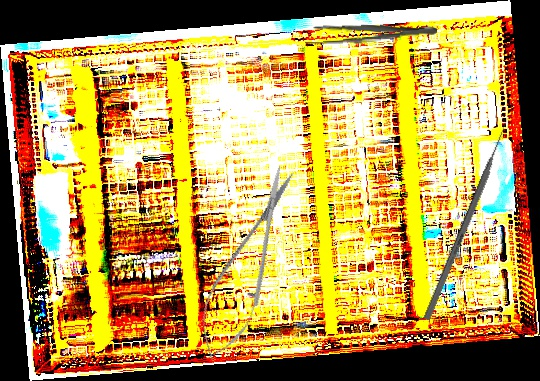Dressing Forceps: (304, 18, 438, 48)
Micro Scissor: (185, 157, 311, 370)
Pusher: (423, 116, 512, 322)
